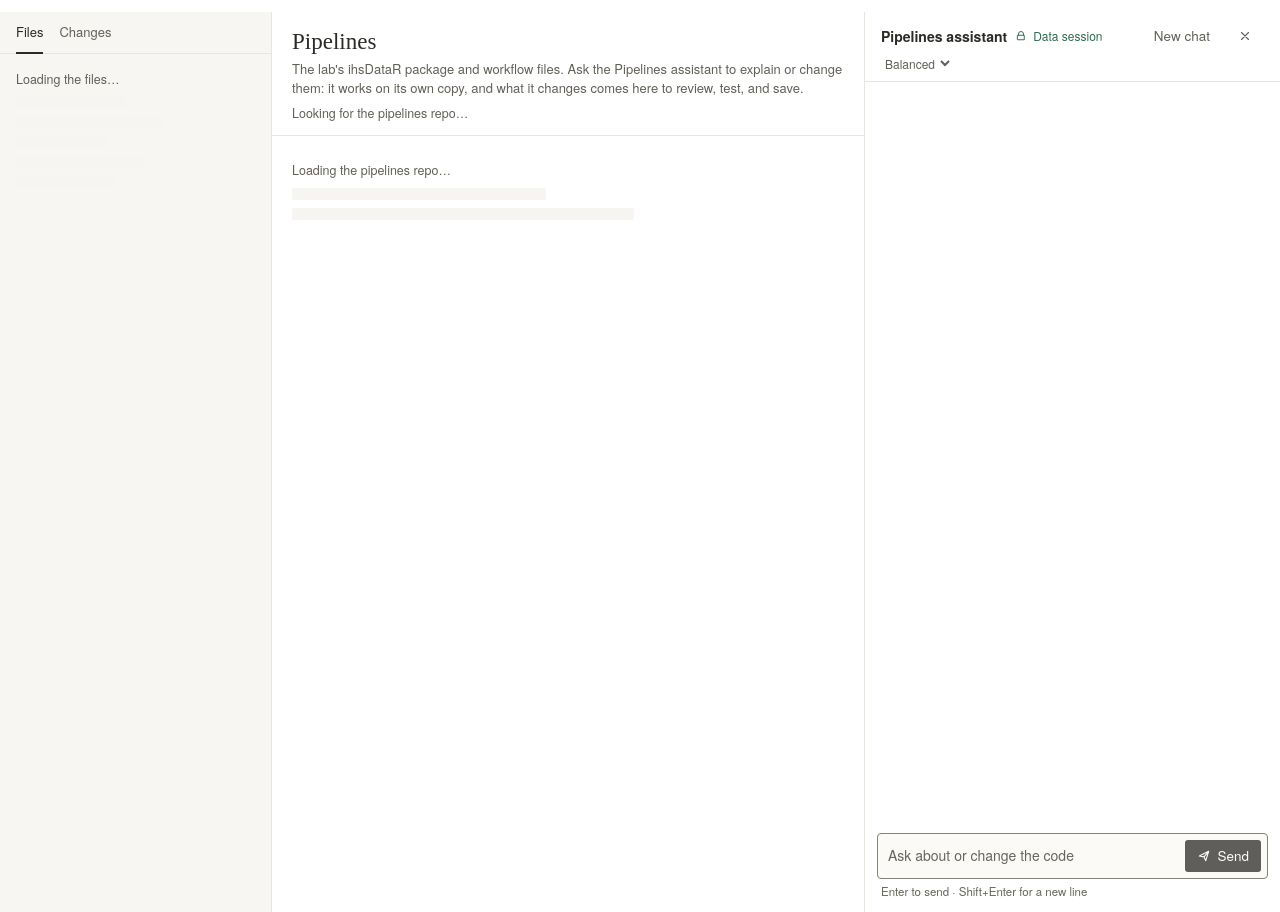
Test: shows the changes loading, not 'Nothing proposed yet', while the repo's state is still loading
Click the tab "Changes" at (86, 33), box [60, 12, 112, 54]
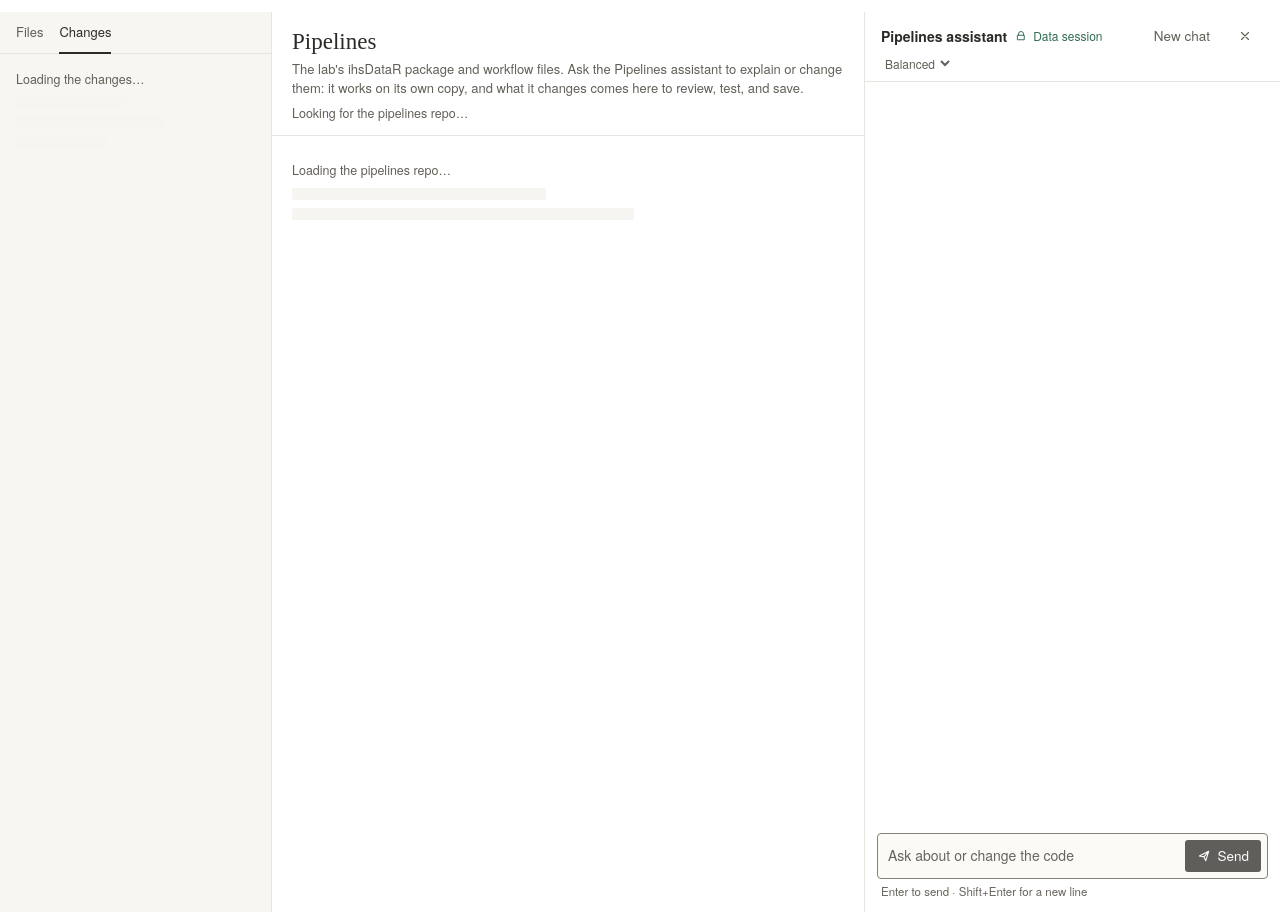
Expected: the text "Loading the changes…" is shown, [16, 70, 144, 88]
